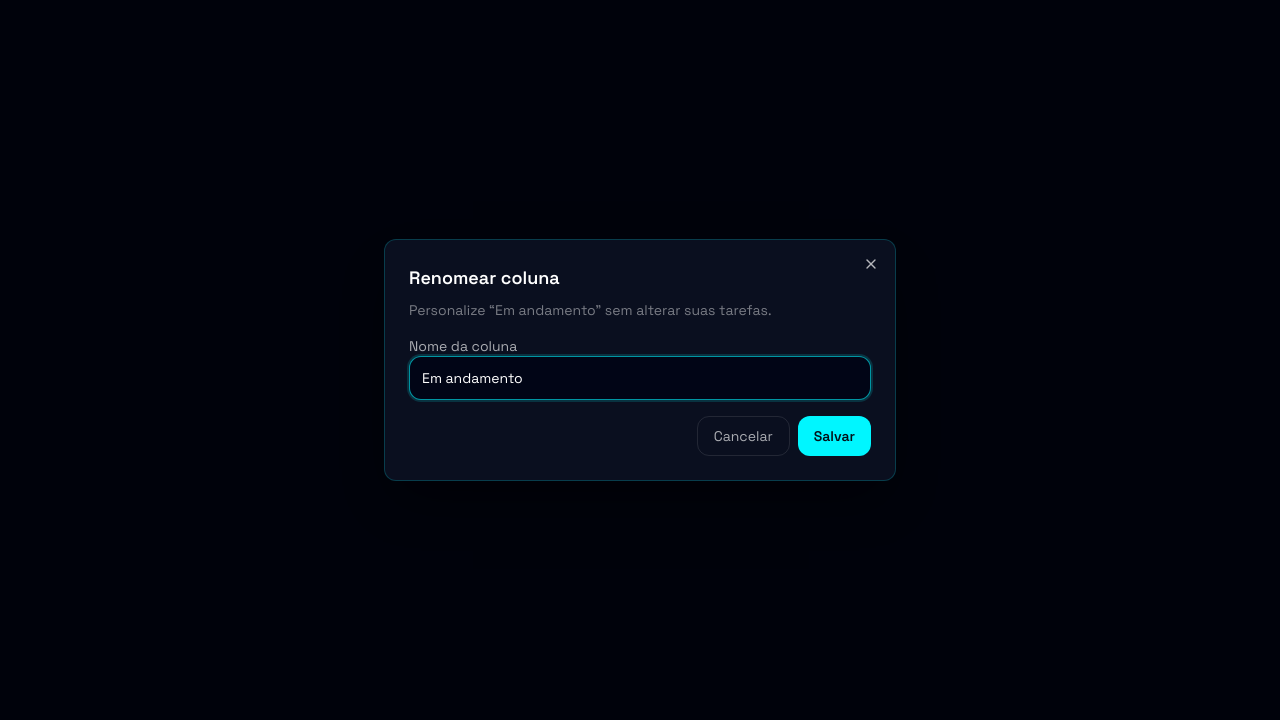
ColumnEditorDialog › keeps the editor open and explains a failed save
The image size is (1280, 720).
Replace the text in the field labelled "Nome da coluna" with "  Em revisão  ": [640, 378] box [409,356,871,400]
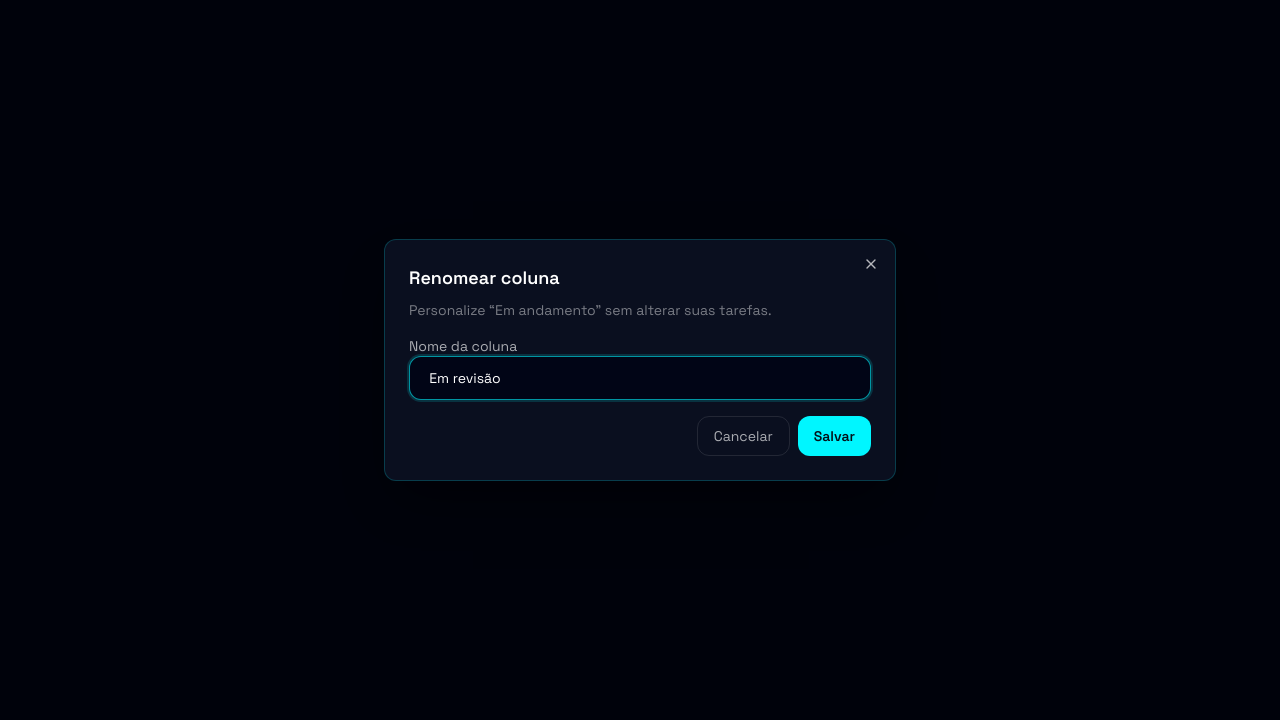
Click the button "Salvar": [834, 436] box [798,416,871,456]
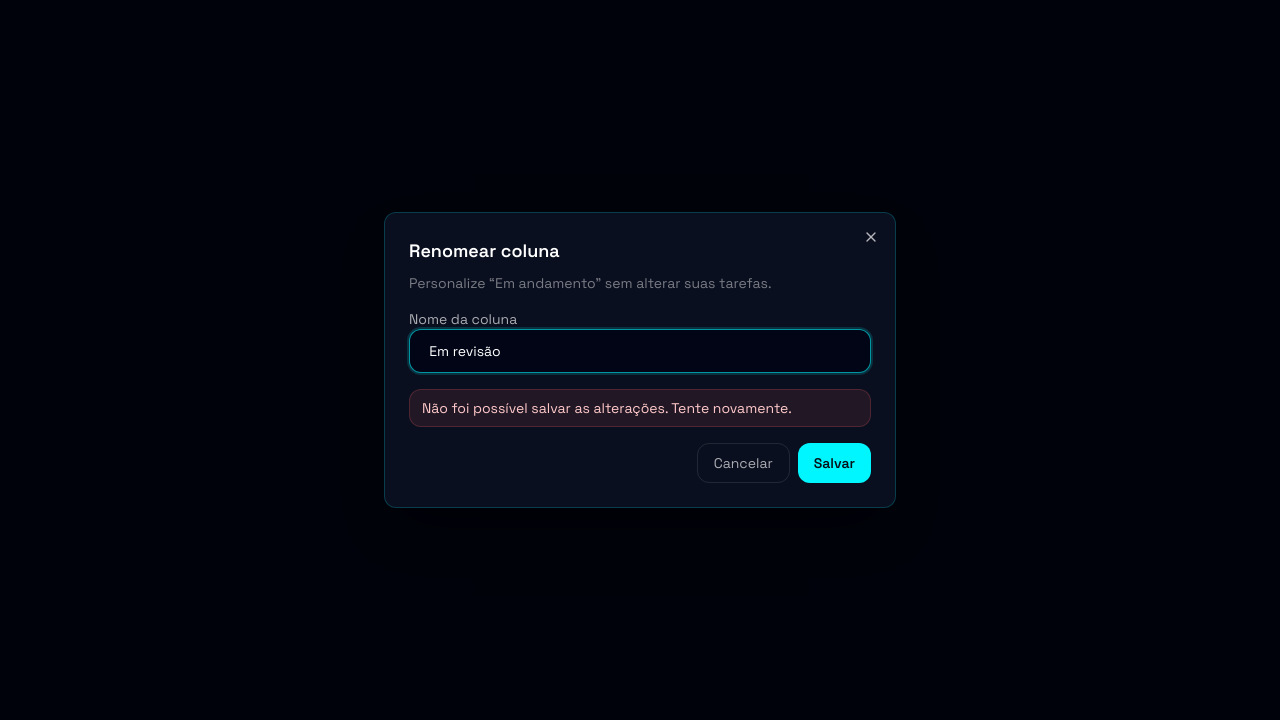
Check: the dialog is shown, box [384,212,896,508]
Check: the message "Não foi possível salvar as alterações. Tente novamente." is shown, box [409,389,871,427]
